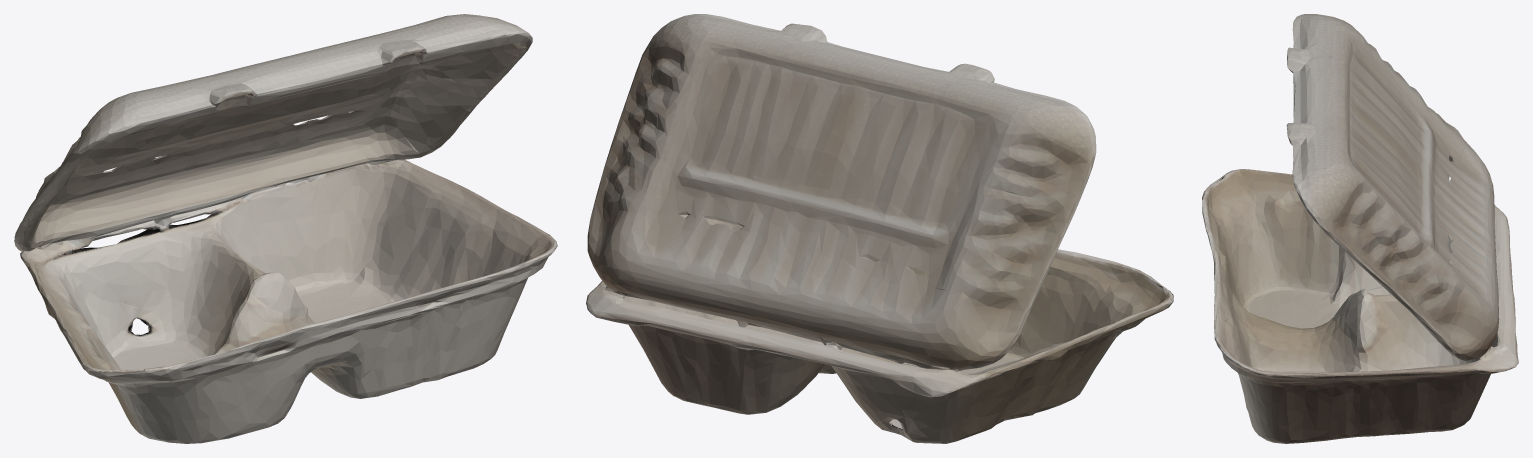
Rendered from model_clumshell.glb.
3 views of the same model, side by side, from view 1: azimuth 30°, elevation 25°; view 2: azimuth 150°, elevation 25°; view 3: azimuth 270°, elevation 25° (orthographic). The views are drawn at different scales.
Parts seen in each view (by area): view 1: world; view 2: world; view 3: world.
Part boxes in pixels (x1,y1,x2,y2): world: (14, 14, 557, 443); world: (586, 14, 1173, 443); world: (1202, 14, 1518, 443).
Size of the model in its own units: 0.6305 by 0.3908 by 0.3955.
Materials: 1 (1 with a texture image).
